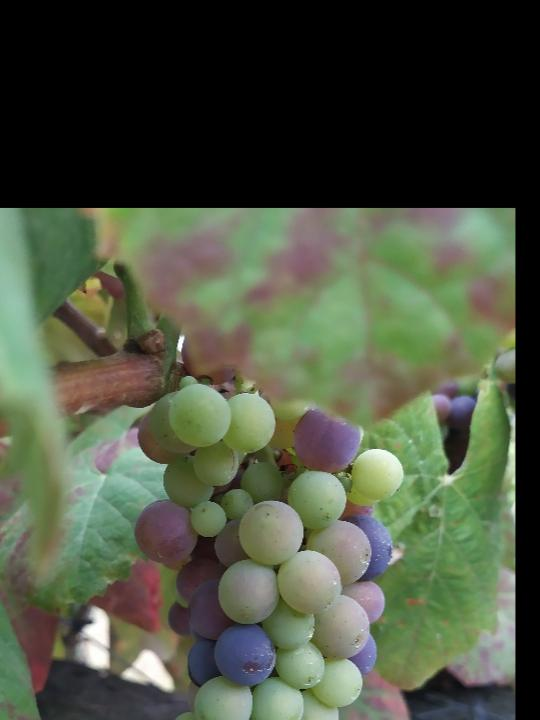grape: (132, 379, 405, 720)
